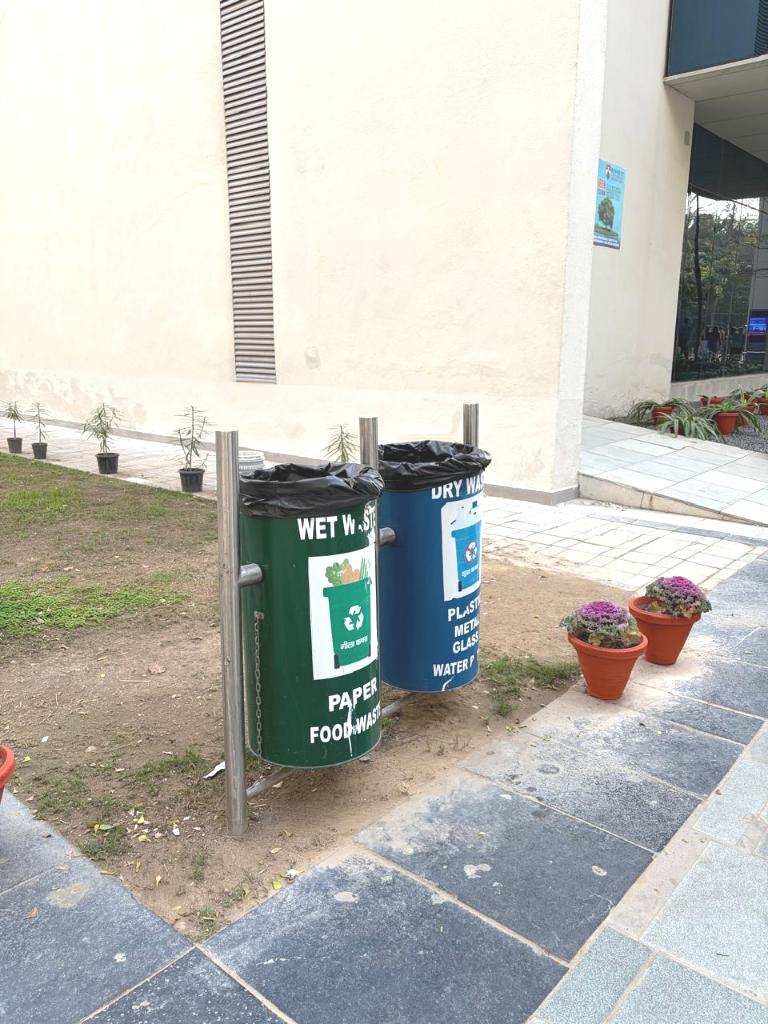dustbin: (201, 414, 509, 779), (211, 421, 387, 795), (353, 411, 504, 708)
